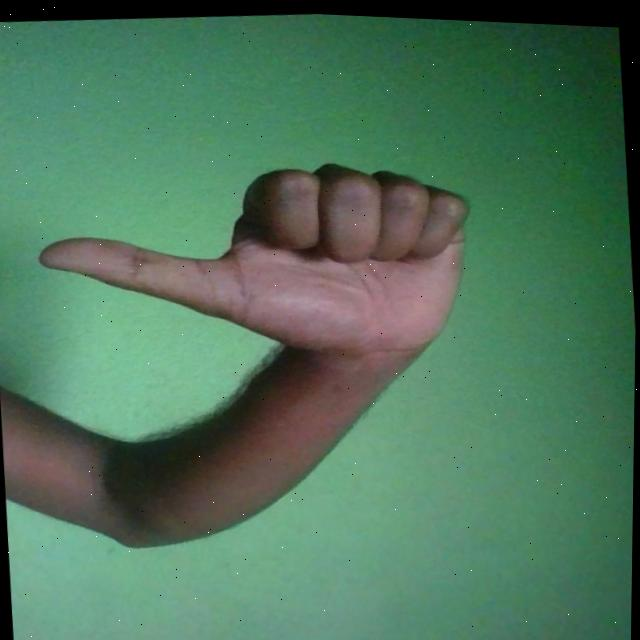Dislike: (30, 142, 481, 387)
